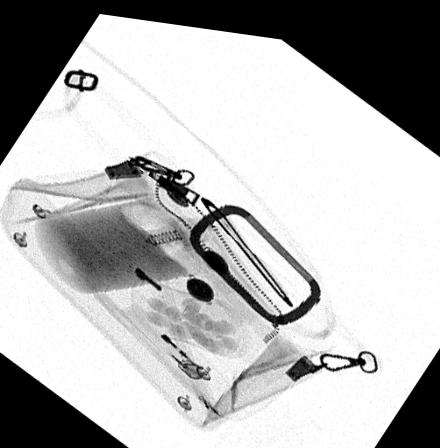Lighter: (115, 297, 210, 376)
